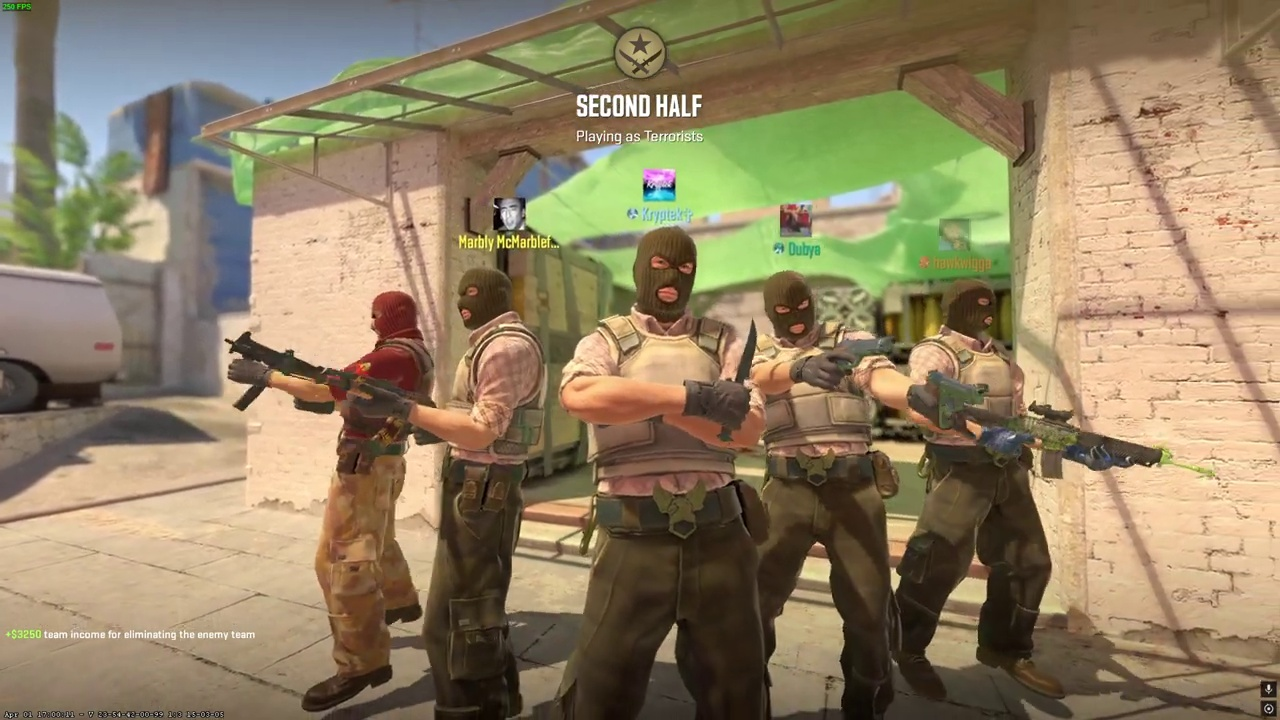Terrorist: (558, 225, 773, 720), (736, 270, 917, 719), (896, 277, 1064, 699), (398, 266, 549, 720), (300, 292, 434, 720)
